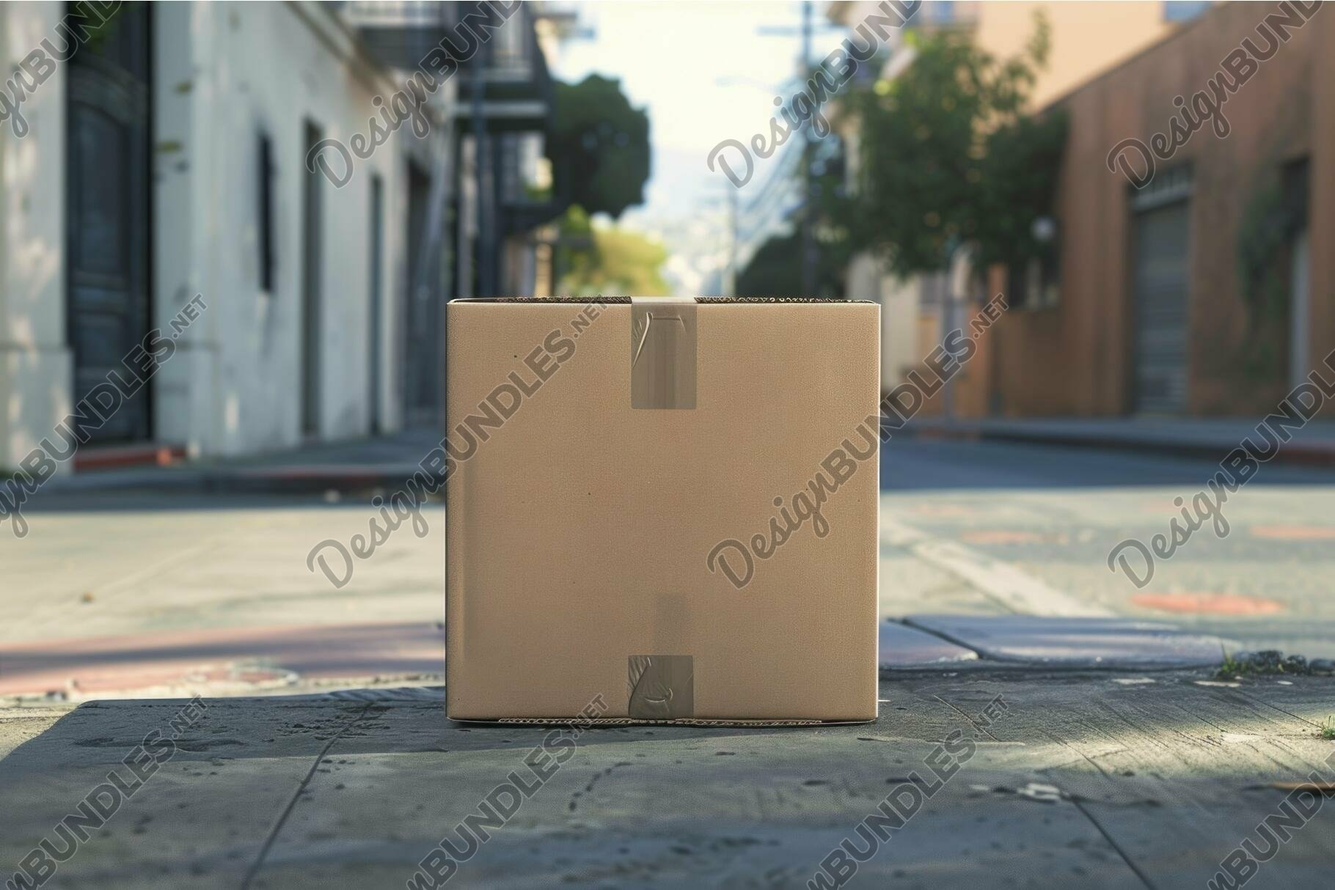DeliveryBox: (407, 277, 927, 739)
